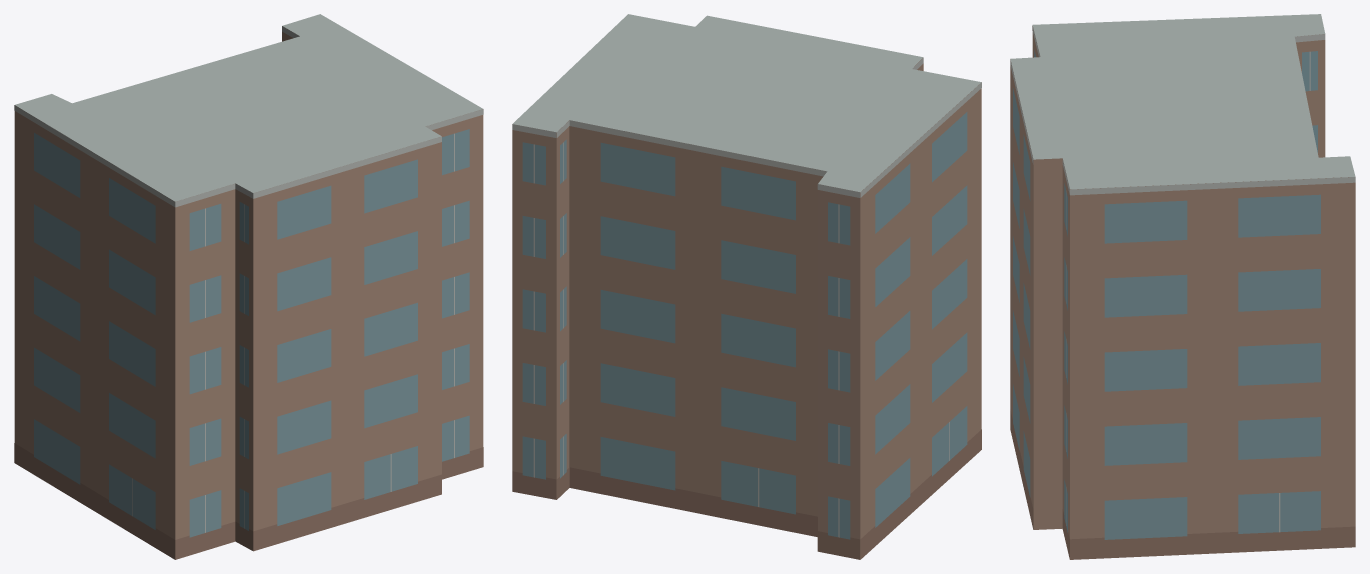
Rendered from survey-upis-32633226.glb.
The picture shows the model from 3 angles, left to right: view 1: azimuth 30°, elevation 25°; view 2: azimuth 150°, elevation 25°; view 3: azimuth 270°, elevation 25°; orthographic projection. The views are drawn at different scales.
Parts seen in each view (by area): view 1: survey-upis-32633226.tmp; view 2: survey-upis-32633226.tmp; view 3: survey-upis-32633226.tmp.
Part boxes in pixels (x1,y1,x2,y2): survey-upis-32633226.tmp: (14, 14, 483, 559); survey-upis-32633226.tmp: (512, 14, 981, 559); survey-upis-32633226.tmp: (1010, 14, 1355, 559).
Size of the model in its own units: 15.5 by 15.25 by 12.89.
